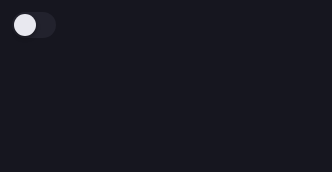
Switch › is a role=switch whose aria-checked follows the state
The width and height of the screenshot is (332, 172).
Click the switch named "Send to another address".
click(34, 25)  # box [12,12,56,38]
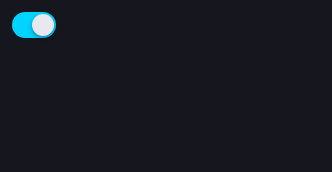
Expected: the switch named "Send to another address" is checked, [12,12,56,38]
